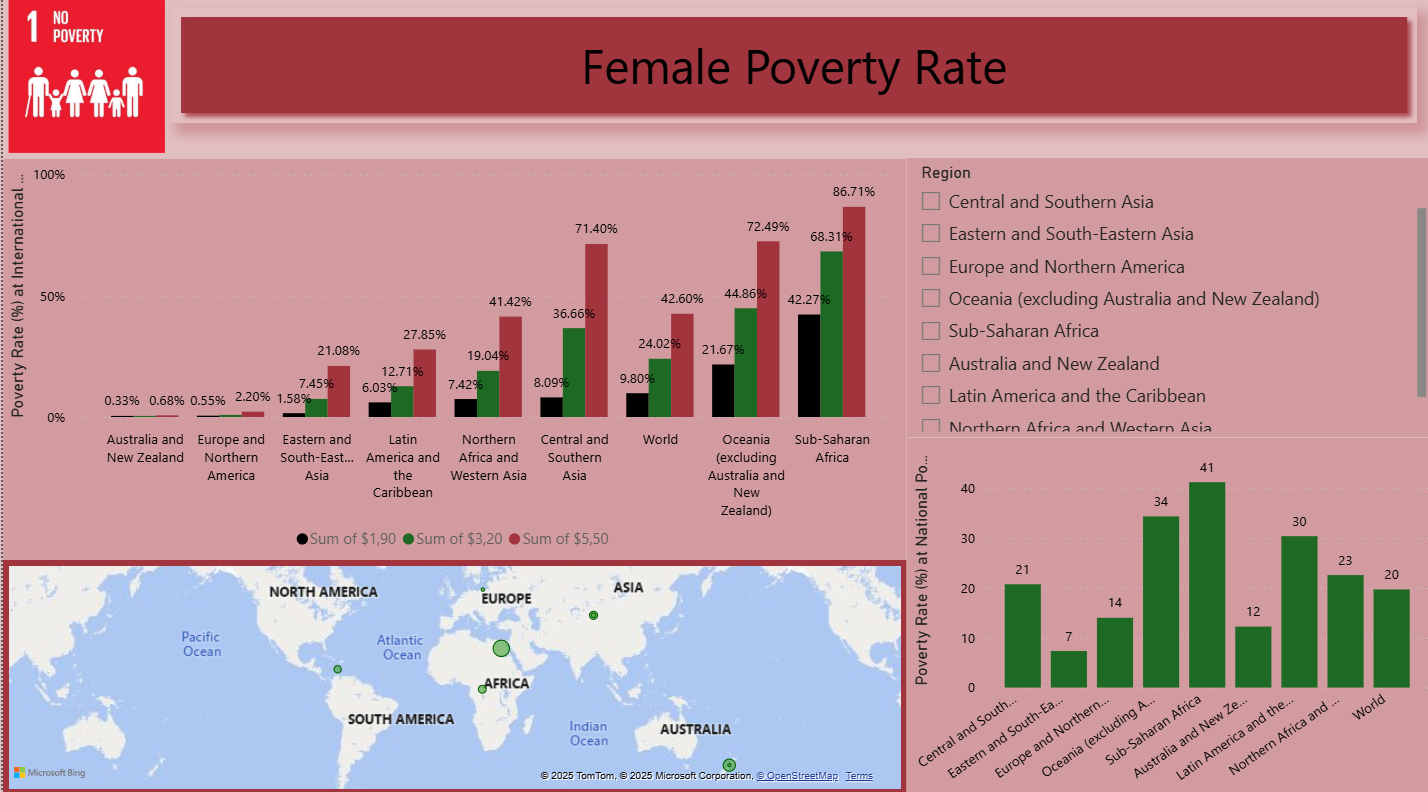

Layout of this report page (visuals, bound fields, positions):
{"tool":"powerbi","page":{"name":"Female Poverty Rate","canvas":[1280,720],"ordinal":1},"visuals":[{"type":"shape","box":[150.4,14.7,1116.1,103.9],"z":0},{"type":"clusteredColumnChart","fields":{"Y":["Sum(Female poverty lines by region.1,9)","Sum(Female poverty lines by region.3,2)","Sum(Female poverty lines by region.5,5)"],"Category":["Female poverty lines by region.Region"]},"box":[0,150.4,809.2,359.4],"z":1000},{"type":"columnChart","fields":{"Y":["Sum(Female poverty lines by region.NPL)"],"Category":["Female poverty lines by region.Region"]},"box":[809.5,399.9,472.4,320.5],"z":2000},{"type":"image","box":[0,0,150.4,150.4],"z":3000},{"type":"map","fields":{"Category":["Female poverty lines by region.Region"],"Size":["Sum(Female poverty lines by region.$1,90)"]},"box":[0,509.7,809.2,210.3],"z":4000},{"type":"slicer","fields":{"Values":["Female poverty lines by region.Region"]},"box":[809.5,149.9,470.4,249.9],"z":5000}]}

Visuals, with their boxes in screenshot pixels (x1, y1, x2, y2), scaled from the page's 1280x720 canvas onto the 1428x792 screenshot:
shape: <region>168, 16, 1413, 130</region>
clusteredColumnChart - Sum(Female poverty lines by region.1,9) x Sum(Female poverty lines by region.3,2): <region>0, 165, 903, 561</region>
columnChart - Sum(Female poverty lines by region.NPL) x Female poverty lines by region.Region: <region>903, 440, 1427, 791</region>
image: <region>0, 0, 168, 165</region>
map - Female poverty lines by region.Region x Sum(Female poverty lines by region.$1,90): <region>0, 561, 903, 791</region>
slicer - Female poverty lines by region.Region: <region>903, 165, 1427, 440</region>
